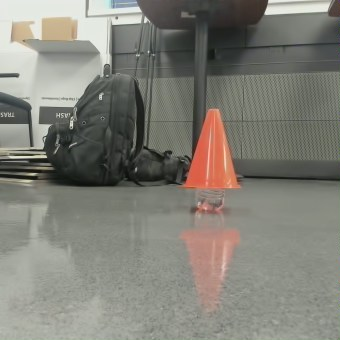Cone: (185, 107, 238, 186)
